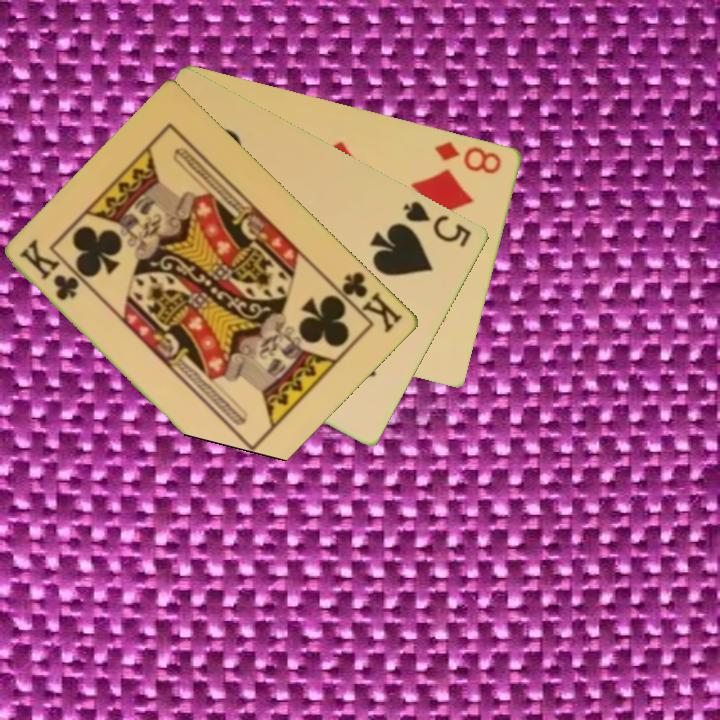5s: (399, 197, 475, 250)
8d: (431, 137, 505, 177)
Kc: (329, 268, 406, 336), (16, 236, 83, 304)
